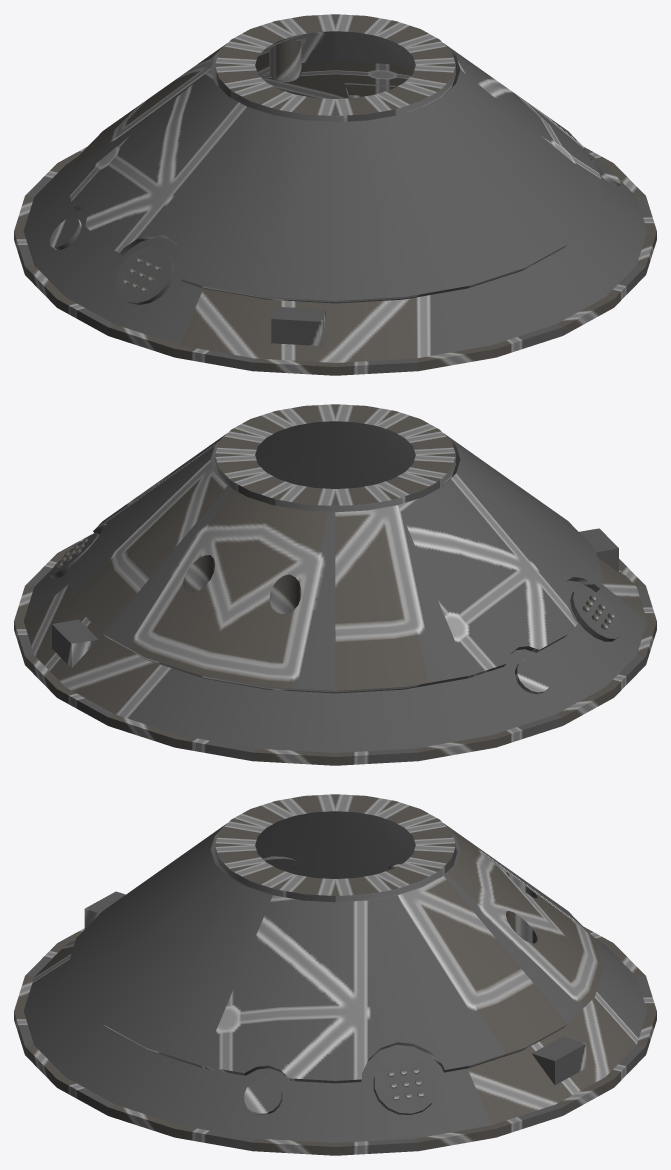
The model's file is big crew narrow adapter.obj.
3 views of the same model, one above another, from view 1: azimuth 30°, elevation 25°; view 2: azimuth 150°, elevation 25°; view 3: azimuth 270°, elevation 25° (orthographic).
Visible parts, largest first — view 1: 1.004; view 2: 1.004; view 3: 1.004.
Boxes of the visible parts, x1=… form: 1.004: x1=14, y1=14, x2=656, y2=375; 1.004: x1=14, y1=404, x2=656, y2=765; 1.004: x1=14, y1=794, x2=656, y2=1155.
Size of the model in its own units: 2.5 by 0.75 by 2.5.
